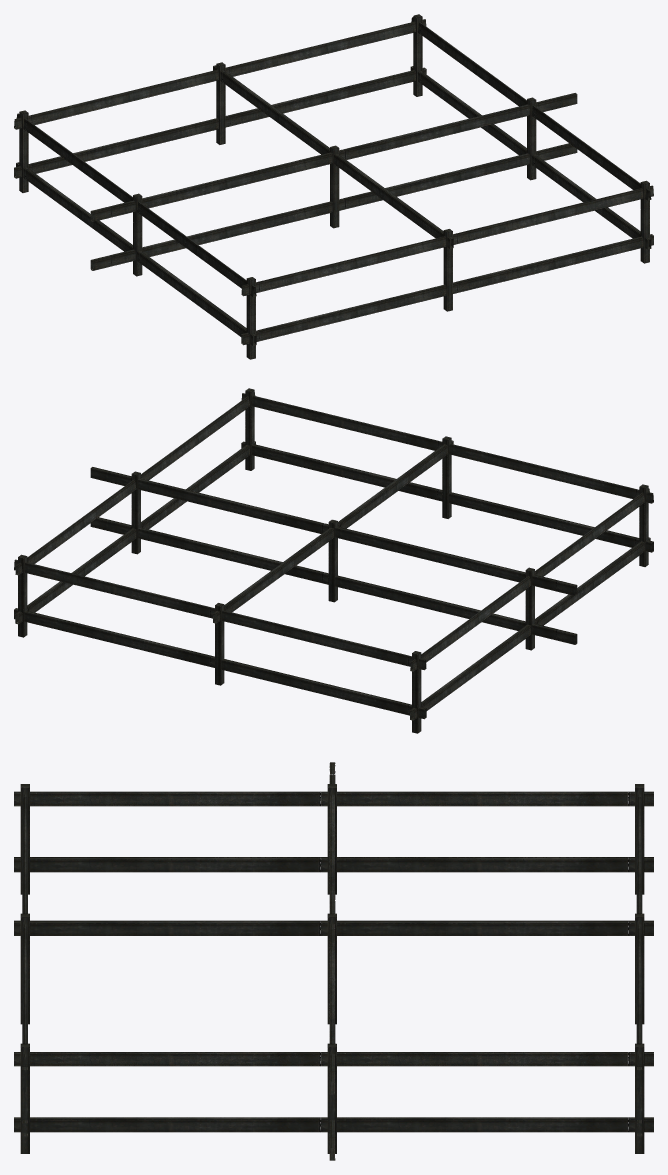
The model's file is tesla_dressing_generic_frame_05.dae.
3 views of the same model, one above another, from view 1: azimuth 30°, elevation 25°; view 2: azimuth 150°, elevation 25°; view 3: azimuth 270°, elevation 25° (orthographic). The views are drawn at different scales.
Parts seen in each view (by area): view 1: cluster_01_frame; view 2: cluster_01_frame; view 3: cluster_01_frame.
Part boxes in pixels (<box>): cluster_01_frame: <box>14,14,653,359</box>; cluster_01_frame: <box>14,388,653,733</box>; cluster_01_frame: <box>14,762,653,1160</box>.
Size of the model in its own units: 400 by 62.25 by 339.
